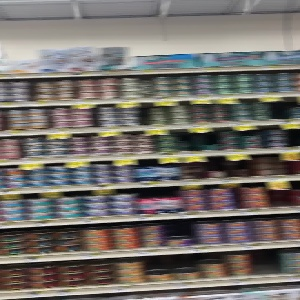void: (252, 251, 284, 276), (270, 181, 293, 211), (272, 99, 291, 121)
